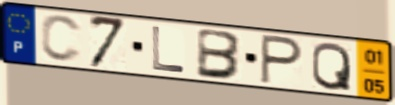7: (87, 13, 129, 71)
B: (195, 26, 245, 81)
C: (39, 13, 85, 65)
L: (150, 24, 188, 75)
P: (258, 33, 305, 88)
Q: (310, 41, 354, 93)
